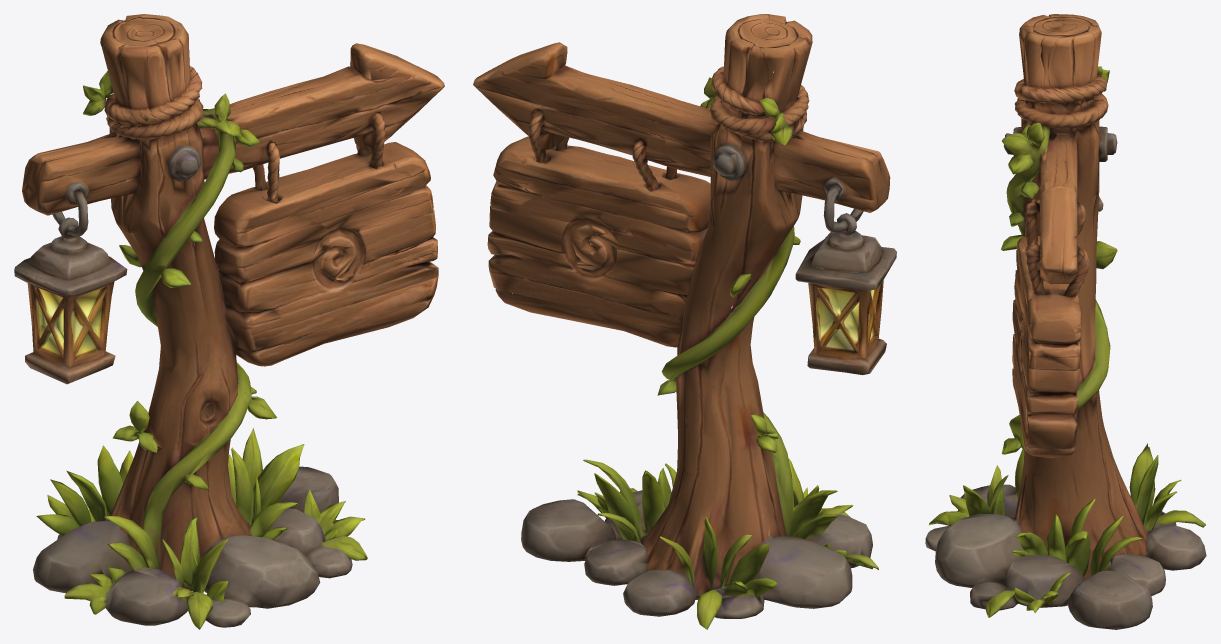
File: noticeboard.glb
The picture shows the model from 3 angles, left to right: view 1: azimuth 30°, elevation 25°; view 2: azimuth 150°, elevation 25°; view 3: azimuth 270°, elevation 25°; orthographic projection. The views are drawn at different scales.
Parts seen in each view (by area): view 1: tripo_node_00be861e-015f-4595-9a2d-08c682b5d8b7; view 2: tripo_node_00be861e-015f-4595-9a2d-08c682b5d8b7; view 3: tripo_node_00be861e-015f-4595-9a2d-08c682b5d8b7.
Boxes of the visible parts, x1,y1,x2,y2 form: tripo_node_00be861e-015f-4595-9a2d-08c682b5d8b7: (14,14,444,629); tripo_node_00be861e-015f-4595-9a2d-08c682b5d8b7: (473,14,896,629); tripo_node_00be861e-015f-4595-9a2d-08c682b5d8b7: (925,14,1206,629).
Size of the model in its own units: 0.7707 by 0.9793 by 0.4862.
1 material, 1 textured.
